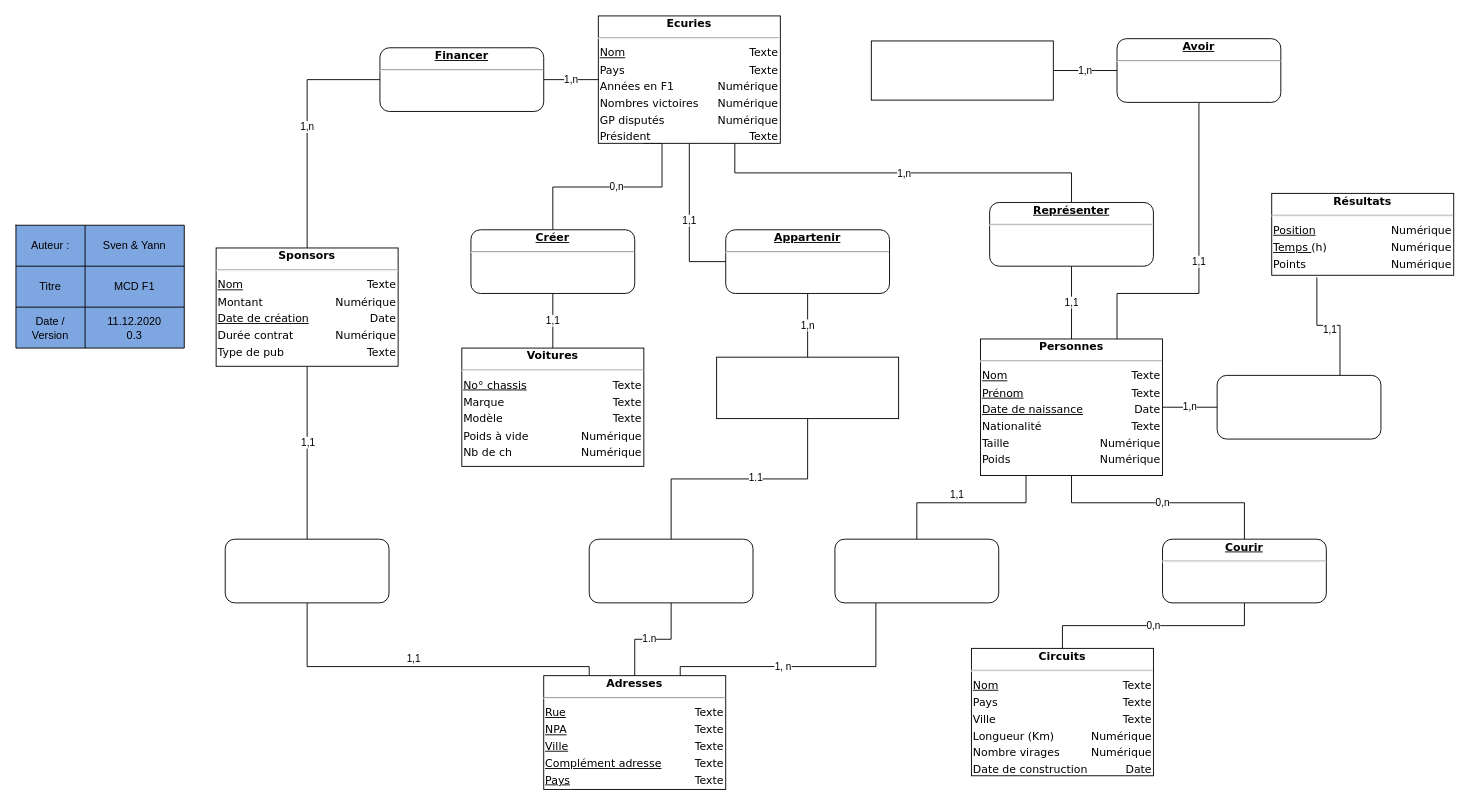
The diagram is 1470 pixels wide and 805 high, and some of its shapes have lost their labels. The shapes that lost their labels are listed below. From the top down, each one's centre as x and y in pixels, then its label:
[961,70]: Rôles Nom Texte
[807,387]: Siège Nom Texte Date de création Date
[1298,406]: Produire / Obtenir
[306,570]: situer
[670,570]: sièger
[916,570]: Habiter
